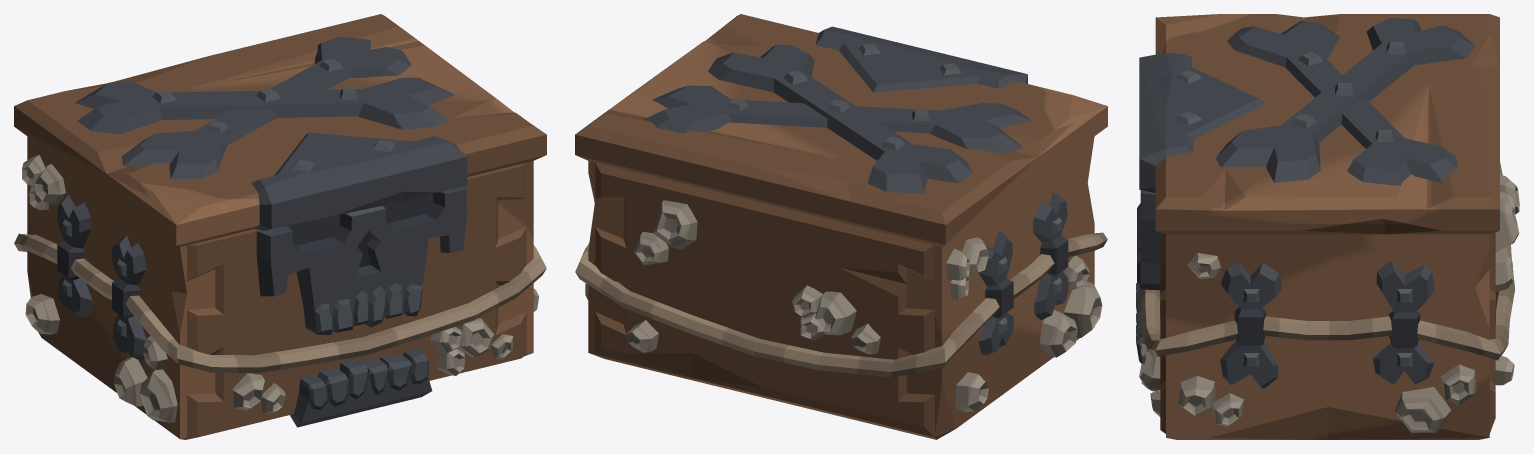
File: SM_Prop_Treasure_Chest_02.fbx
3 renders of one model, left to right at view 1: azimuth 30°, elevation 25°; view 2: azimuth 150°, elevation 25°; view 3: azimuth 270°, elevation 25°, orthographic. The views are drawn at different scales.
Visible parts, largest first — view 1: SM_Prop_Treasure_Chest_02, SM_Prop_Treasure_Chest_02_Lid; view 2: SM_Prop_Treasure_Chest_02, SM_Prop_Treasure_Chest_02_Lid; view 3: SM_Prop_Treasure_Chest_02_Lid, SM_Prop_Treasure_Chest_02.
Boxes of the visible parts, box(x1,y1,x2,y2) form: SM_Prop_Treasure_Chest_02: box(14, 136, 546, 439); SM_Prop_Treasure_Chest_02_Lid: box(14, 14, 546, 246); SM_Prop_Treasure_Chest_02: box(575, 136, 1107, 439); SM_Prop_Treasure_Chest_02_Lid: box(575, 14, 1107, 246); SM_Prop_Treasure_Chest_02_Lid: box(1139, 14, 1499, 234); SM_Prop_Treasure_Chest_02: box(1136, 163, 1519, 439).
Size of the model in its own units: 82.5 by 52.3 by 66.42.
